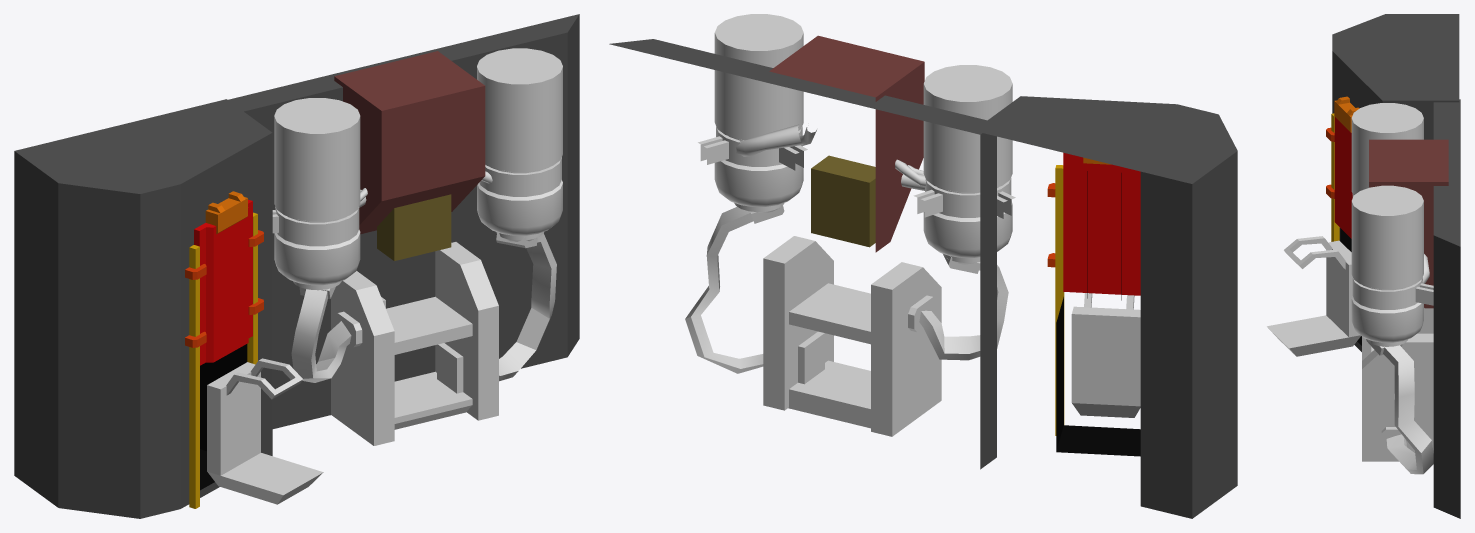
The model's file is turret_station.glb.
3 views of the same model, side by side, from view 1: azimuth 30°, elevation 25°; view 2: azimuth 150°, elevation 25°; view 3: azimuth 270°, elevation 25° (orthographic). The views are drawn at different scales.
Visible parts, largest first — view 1: Cube, Cube.003, Cube.012, Cylinder, Cylinder.003, Cube.008, Cube.001, Cube.018, Cube.005, Cube.013, Cube.017, Cube.022 (+9 smaller); view 2: Cube, Cylinder.003, Cube.003, Cylinder, Cube.012, Cube.005, Cube.008, Cube.018, Cube.001, Cube.013, Cube.011, Cube.015 (+9 smaller); view 3: Cube, Cube.003, Cylinder.003, Cube.018, Cube.012, Cube.001, Cylinder, Cube.023, Cube.005, Cylinder.005, Cube.002, Cube.026 (+4 smaller).
Boxes of the visible parts, bbox=[...] form: Cube: bbox=[14, 99, 272, 518]; Cube.003: bbox=[228, 14, 579, 428]; Cube.012: bbox=[334, 51, 485, 234]; Cylinder: bbox=[274, 98, 360, 285]; Cylinder.003: bbox=[477, 48, 562, 235]; Cube.008: bbox=[331, 271, 394, 445]; Cube.001: bbox=[207, 362, 323, 504]; Cube.018: bbox=[435, 242, 498, 420]; Cube.005: bbox=[194, 199, 252, 365]; Cube.013: bbox=[377, 194, 451, 260]; Cube.017: bbox=[189, 212, 257, 508]; Cube.022: bbox=[291, 289, 351, 382]; Cube: bbox=[973, 96, 1237, 518]; Cylinder.003: bbox=[714, 14, 803, 206]; Cube.003: bbox=[609, 39, 996, 469]; Cylinder: bbox=[923, 65, 1012, 257]; Cube.012: bbox=[769, 35, 924, 252]; Cube.005: bbox=[1063, 152, 1140, 295]; Cube.008: bbox=[871, 262, 941, 436]; Cube.018: bbox=[763, 236, 833, 410]; Cube.001: bbox=[1071, 306, 1140, 417]; Cube.013: bbox=[811, 155, 875, 247]; Cube.011: bbox=[788, 360, 870, 428]; Cube.015: bbox=[789, 283, 870, 344]; Cube: bbox=[1332, 14, 1459, 351]; Cube.003: bbox=[1433, 99, 1460, 518]; Cylinder.003: bbox=[1351, 185, 1423, 342]; Cube.018: bbox=[1362, 333, 1433, 461]; Cube.012: bbox=[1369, 139, 1448, 308]; Cube.001: bbox=[1267, 240, 1360, 356]; Cylinder: bbox=[1351, 103, 1423, 195]; Cube.023: bbox=[1383, 345, 1433, 474]; Cube.005: bbox=[1334, 117, 1352, 238]; Cylinder.005: bbox=[1352, 277, 1422, 309]; Cube.002: bbox=[1284, 236, 1345, 269]; Cube.026: bbox=[1334, 96, 1359, 132].
Size of the model in its own units: 8.77 by 4.9 by 3.11.
